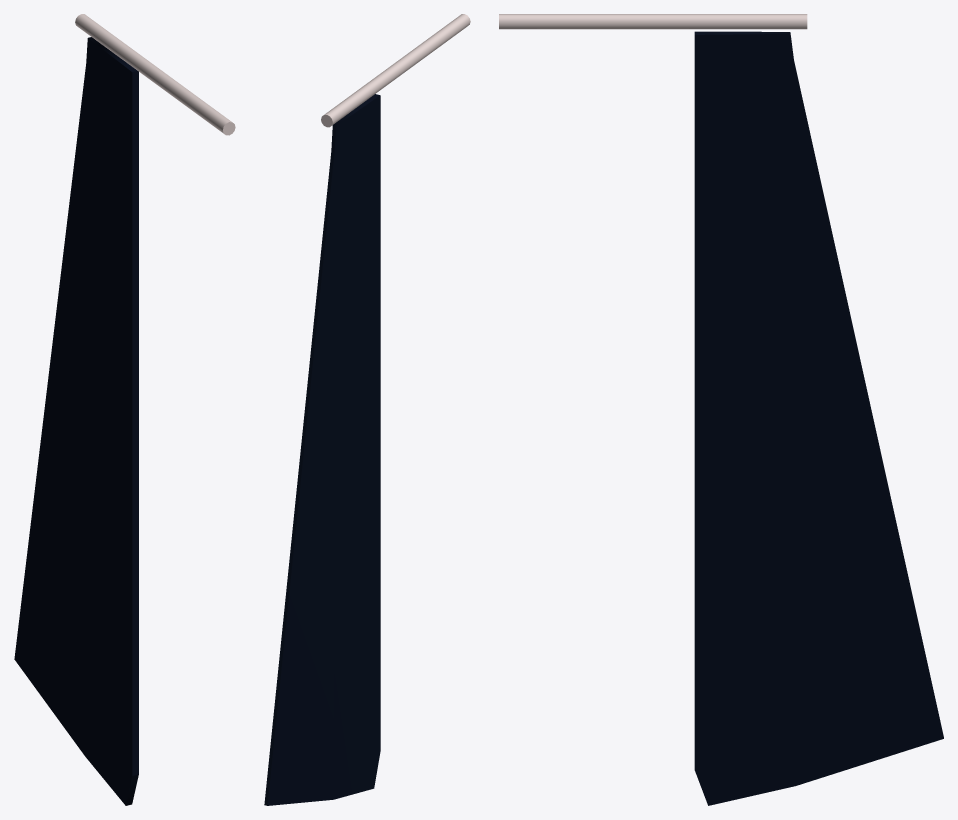
Rendered from rudder.FBX.
3 views of the same model, side by side, from view 1: azimuth 30°, elevation 25°; view 2: azimuth 150°, elevation 25°; view 3: azimuth 270°, elevation 25° (orthographic). The views are drawn at different scales.
Parts seen in each view (by area): view 1: Rudder; view 2: Rudder; view 3: Rudder.
Part boxes in pixels (box(x1,y1,x2,y2)): Rudder: box(14, 14, 235, 805); Rudder: box(264, 14, 470, 805); Rudder: box(499, 14, 943, 805).
Bounding box in the file's own units: 0.4 × 22.6 × 11.54.
2 materials, 2 textured.
